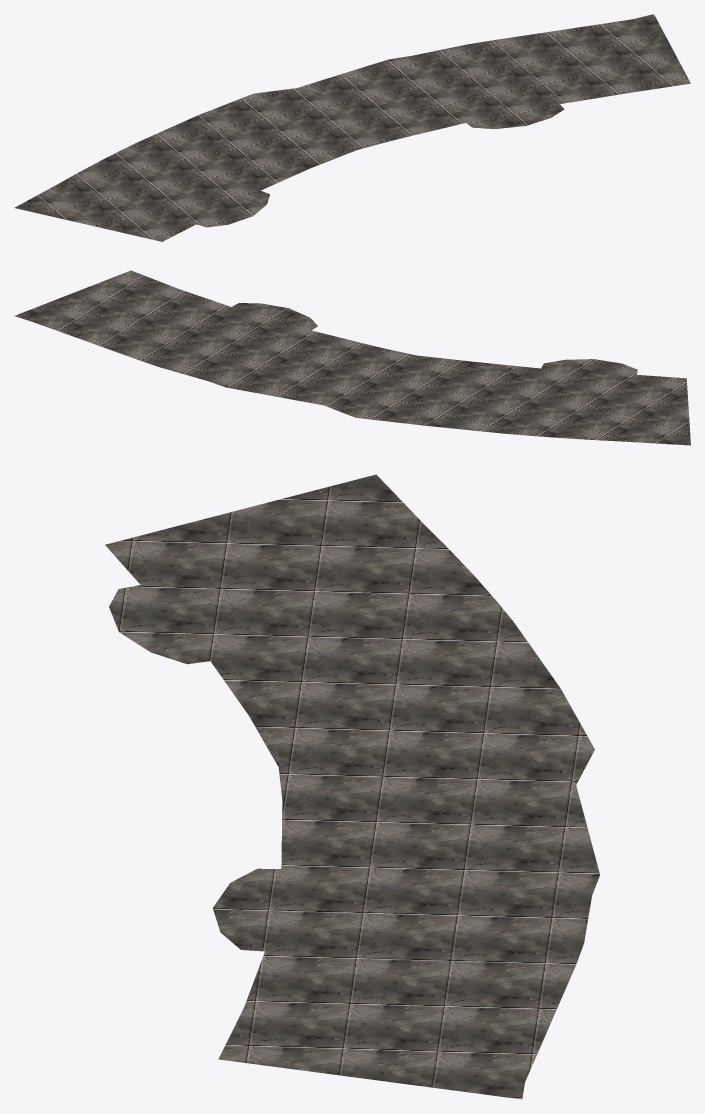
File: CH09_SMAUG_PLAYSURFACE_LAIR114.fbx
The picture shows the model from 3 angles, top to bottom: view 1: azimuth 30°, elevation 25°; view 2: azimuth 150°, elevation 25°; view 3: azimuth 270°, elevation 25°; orthographic projection. The views are drawn at different scales.
Parts seen in each view (by area): view 1: CH09_SMAUG_PLAYSURFACE_LAIR114; view 2: CH09_SMAUG_PLAYSURFACE_LAIR114; view 3: CH09_SMAUG_PLAYSURFACE_LAIR114.
Boxes of the visible parts, x1,y1,x2,y2 form: CH09_SMAUG_PLAYSURFACE_LAIR114: [14, 14, 690, 241]; CH09_SMAUG_PLAYSURFACE_LAIR114: [14, 270, 690, 445]; CH09_SMAUG_PLAYSURFACE_LAIR114: [105, 474, 599, 1099].
Size of the model in its own units: 274486 by 298 by 91913.
Materials: 1 (1 with a texture image).
